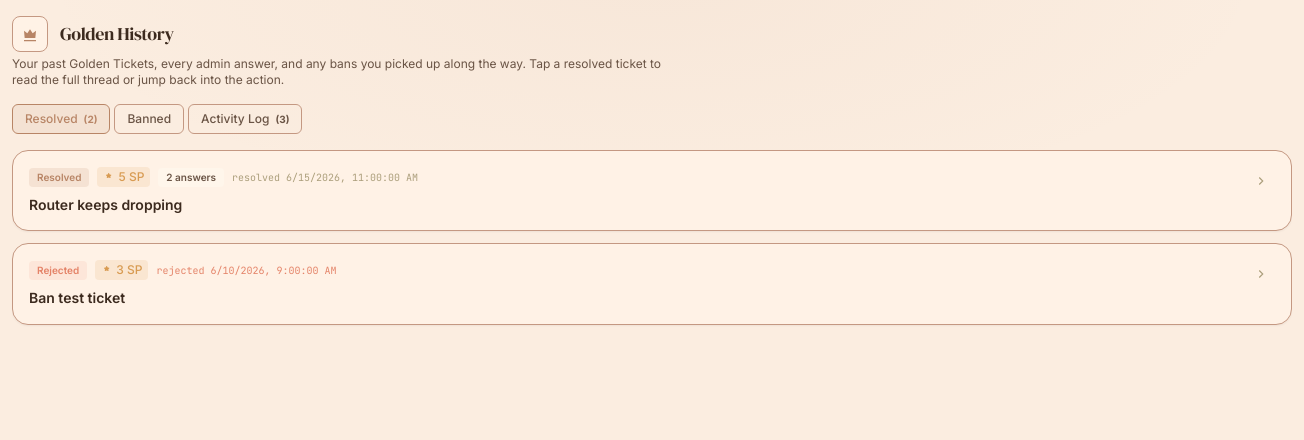
it: GoldenHistorySection › renders Activity Log rows when the user switches to the Activity Log tab
This screenshot has width=1304, height=440.
What coordinates should you click on to do the following:
click the tab "Activity Log(3)"
I would click on:
 (245, 119)
Its box is [188,104,302,134].
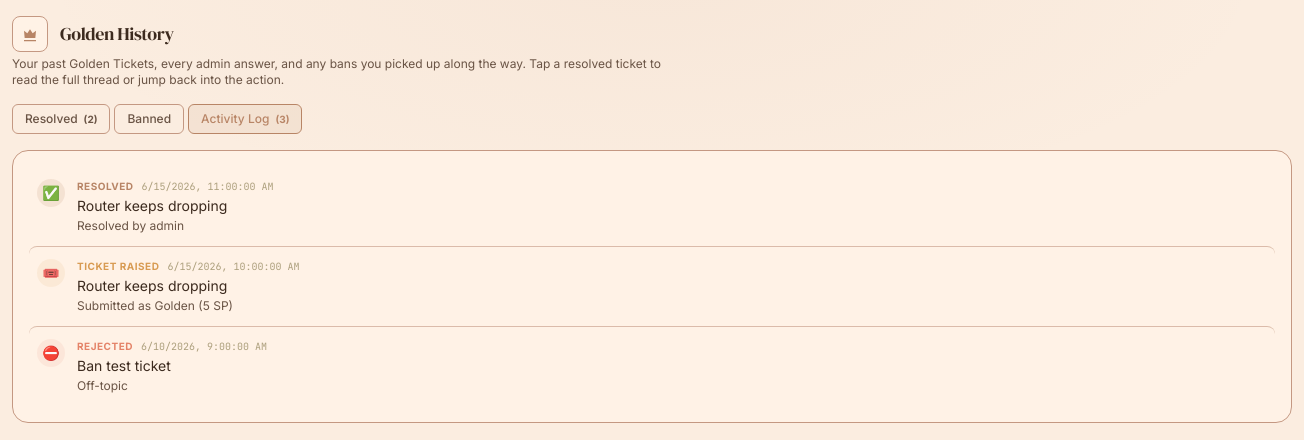
Expected: the text "Resolved" is shown, [12,56,661,87]
Expected: the text "Ticket raised" is shown, [77,259,159,274]
